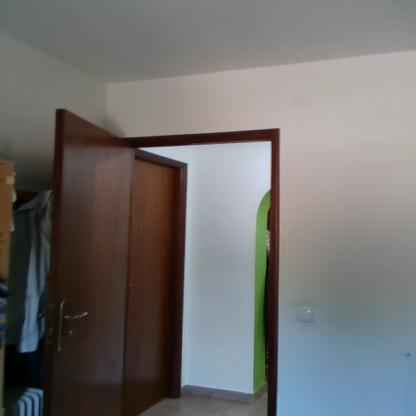closed: (124, 155, 207, 411)
open: (46, 104, 292, 416)
